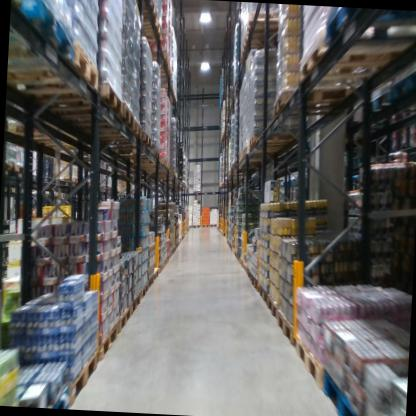pallet: (266, 59, 398, 134), (6, 33, 110, 119), (19, 64, 126, 123), (42, 93, 137, 158), (318, 8, 416, 66), (9, 0, 81, 71), (301, 29, 400, 80), (292, 328, 330, 395), (320, 365, 366, 416), (67, 345, 100, 410), (241, 6, 298, 41), (73, 116, 141, 144), (274, 304, 300, 357), (96, 315, 119, 364), (246, 130, 295, 152), (236, 149, 287, 168), (130, 18, 162, 44), (116, 128, 152, 150), (243, 143, 295, 158), (115, 299, 133, 338), (128, 0, 159, 22), (47, 383, 71, 409), (126, 153, 167, 168), (148, 47, 171, 71), (146, 61, 173, 81), (130, 144, 163, 160), (126, 288, 142, 321), (14, 159, 36, 182), (265, 292, 279, 324), (55, 173, 83, 188), (134, 159, 169, 170), (257, 281, 270, 304), (346, 175, 363, 192), (2, 158, 17, 176), (140, 279, 150, 298), (250, 275, 259, 293), (149, 267, 159, 282), (352, 153, 365, 164), (148, 272, 155, 292), (156, 260, 164, 276), (245, 268, 254, 281), (160, 257, 168, 271), (193, 186, 202, 196), (201, 222, 210, 228), (192, 223, 201, 229), (165, 252, 169, 262), (209, 222, 217, 227), (188, 223, 194, 229)
